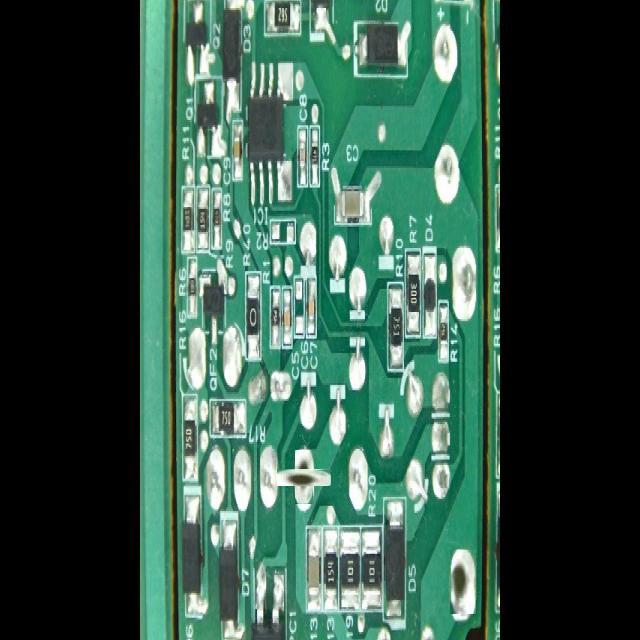damged: (451, 550, 476, 616), (286, 459, 322, 495)
